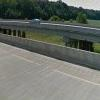Bridge: (2, 11, 99, 52)
